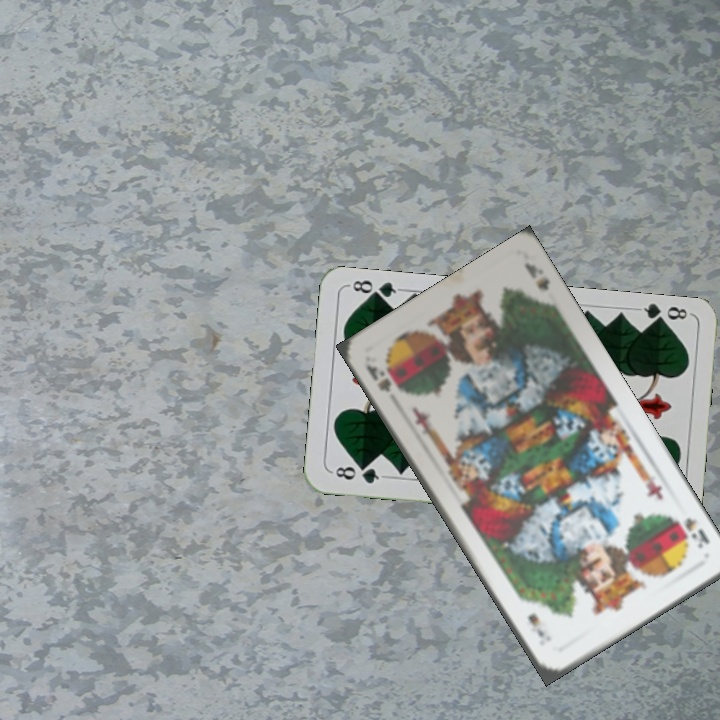G8: (633, 300, 693, 329), (328, 461, 387, 487)
SK: (361, 360, 404, 396), (680, 513, 712, 551)
